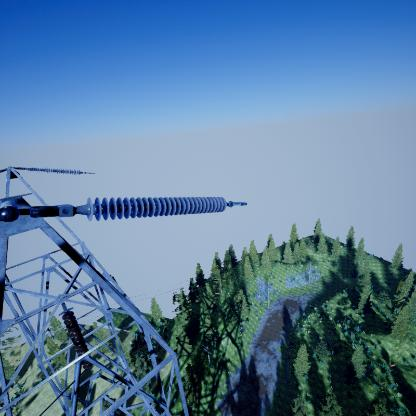insulator: (85, 194, 228, 223)
